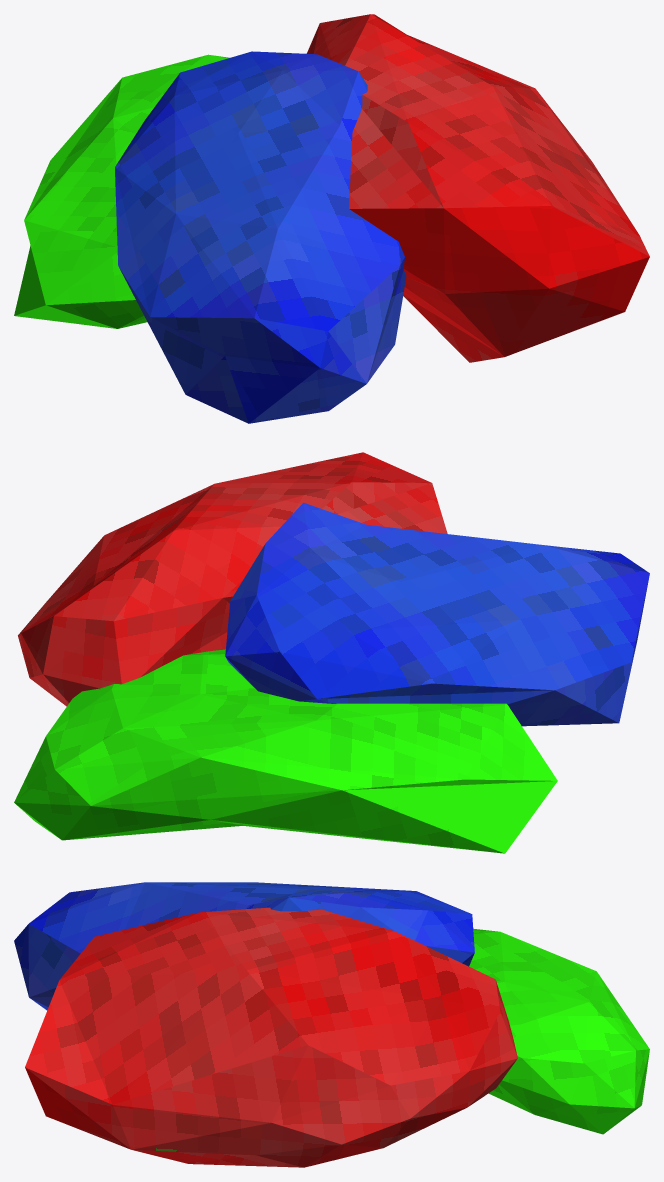
Rendered from Plastic.fbx.
The picture shows the model from 3 angles, top to bottom: view 1: azimuth 30°, elevation 25°; view 2: azimuth 150°, elevation 25°; view 3: azimuth 270°, elevation 25°; orthographic projection. The views are drawn at different scales.
Visible parts, largest first — view 1: Plastic; view 2: Plastic; view 3: Plastic.
Part boxes in pixels (<box>): Plastic: <box>14,14,649,423</box>; Plastic: <box>14,452,649,853</box>; Plastic: <box>14,882,649,1167</box>.
Bounding box in the file's own units: 4.73 × 5.54 × 2.25.
